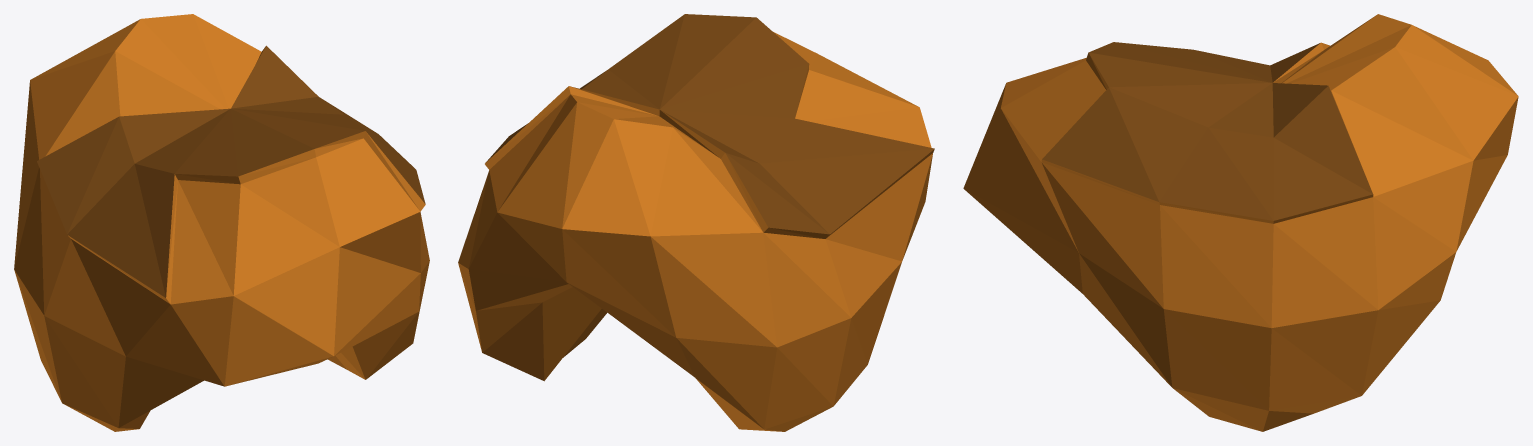
The model's file is седло.fbx.
3 renders of one model, left to right at view 1: azimuth 30°, elevation 25°; view 2: azimuth 150°, elevation 25°; view 3: azimuth 270°, elevation 25°, orthographic. The views are drawn at different scales.
Parts seen in each view (by area): view 1: седло; view 2: седло; view 3: седло.
Part boxes in pixels (left/top/right/bottom): седло: left=14, top=14, right=429, bottom=431; седло: left=458, top=14, right=934, bottom=431; седло: left=963, top=14, right=1518, bottom=431.
Bounding box in the file's own units: 267 × 243 × 353.
